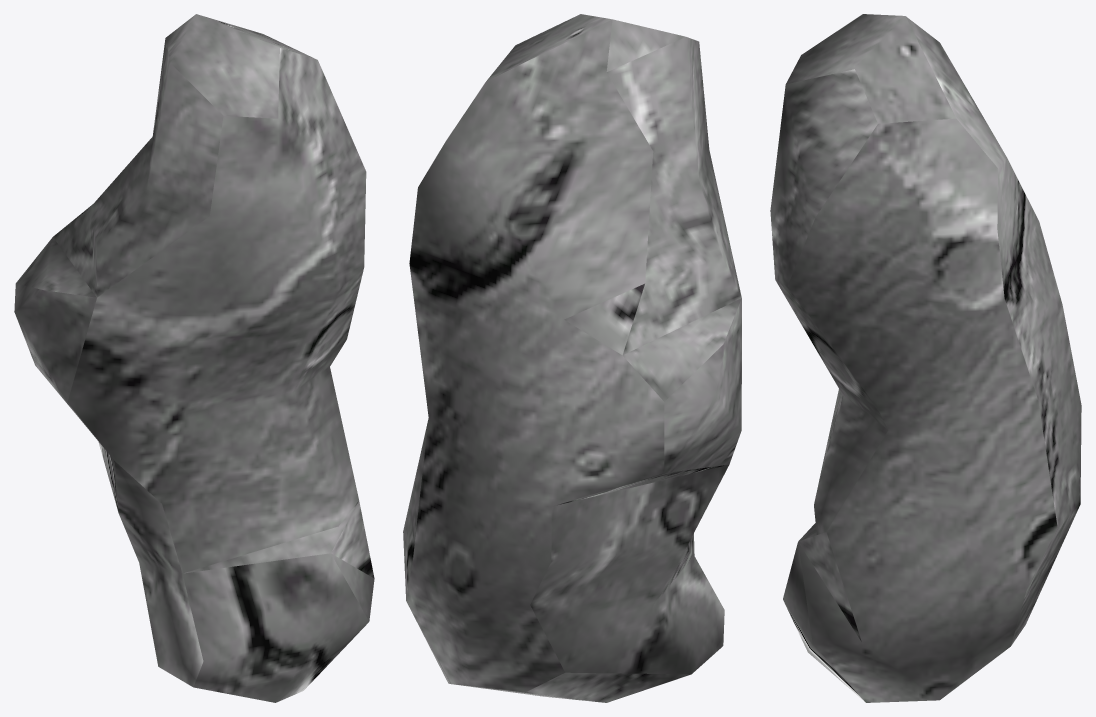
File: AsteroidPillarLarge3.fbx
The picture shows the model from 3 angles, left to right: view 1: azimuth 30°, elevation 25°; view 2: azimuth 150°, elevation 25°; view 3: azimuth 270°, elevation 25°; orthographic projection. The views are drawn at different scales.
Visible parts, largest first — view 1: ZBPillarC_150tris_Mesh; view 2: ZBPillarC_150tris_Mesh; view 3: ZBPillarC_150tris_Mesh.
Part boxes in pixels (<box>): ZBPillarC_150tris_Mesh: <box>14,14,374,702</box>; ZBPillarC_150tris_Mesh: <box>403,14,741,702</box>; ZBPillarC_150tris_Mesh: <box>770,14,1081,702</box>.
Size of the model in its own units: 48.93 by 108 by 47.04.
1 material, 1 textured.
